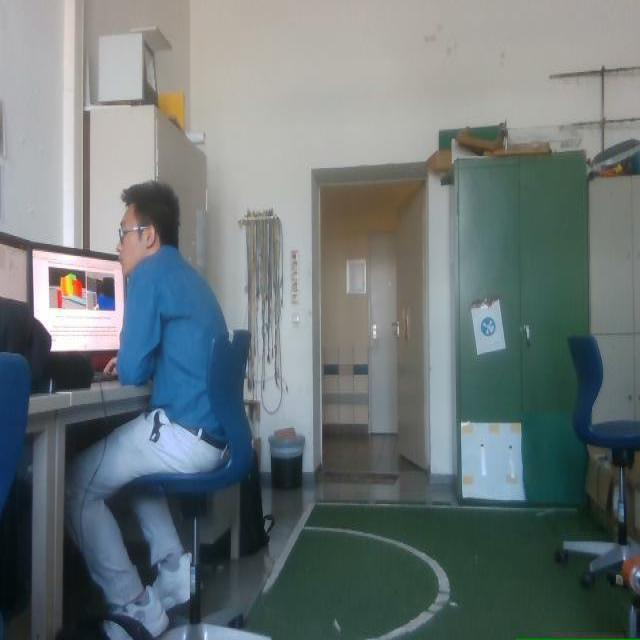humans: (66, 182, 226, 635)
objects: (130, 331, 252, 639), (556, 335, 639, 586), (0, 232, 125, 393), (29, 244, 125, 390), (0, 298, 92, 391), (0, 447, 31, 613), (0, 443, 30, 614), (0, 352, 30, 514), (0, 298, 50, 391), (239, 451, 274, 555), (56, 614, 152, 639), (590, 139, 639, 177), (45, 352, 93, 390)
